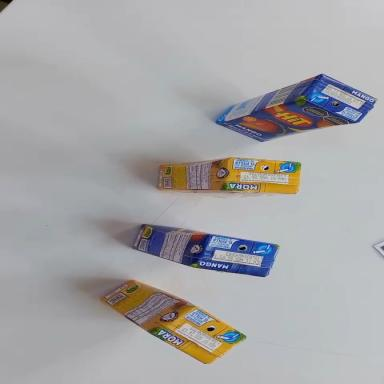HIT-MANGO: (211, 64, 380, 150), (131, 222, 279, 280)
HIT-MORA: (100, 262, 246, 377), (157, 156, 301, 194)
cara_F: (215, 88, 356, 150)
